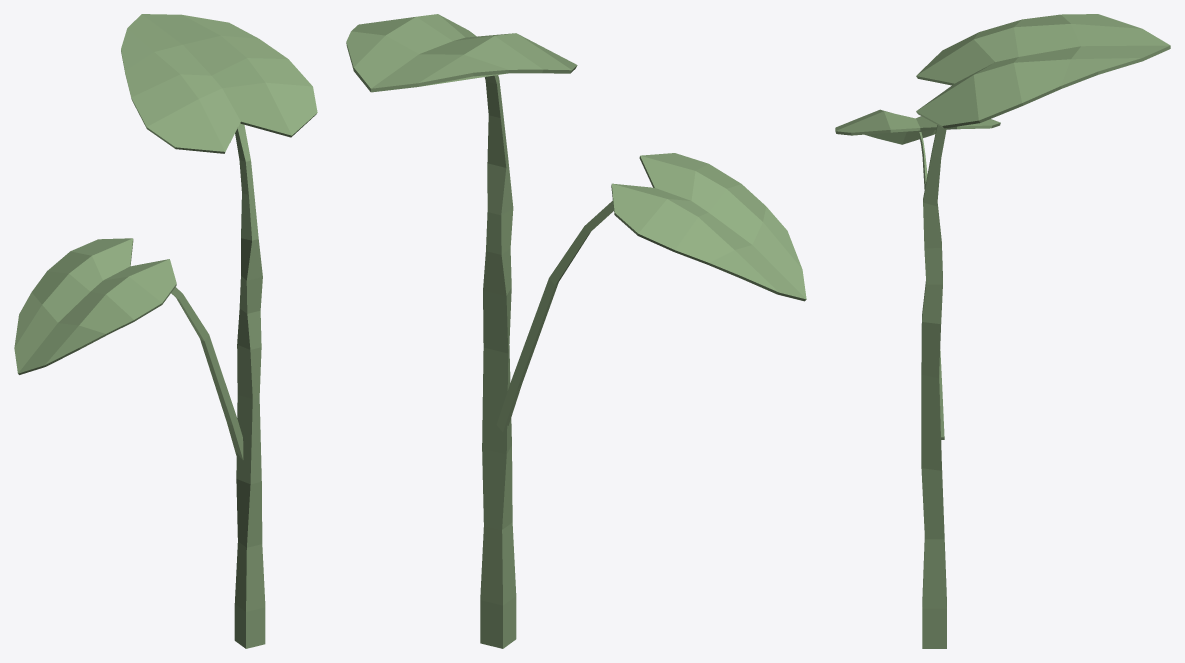
Rendered from palmLeaf.fbx.
The picture shows the model from 3 angles, left to right: view 1: azimuth 30°, elevation 25°; view 2: azimuth 150°, elevation 25°; view 3: azimuth 270°, elevation 25°; orthographic projection. The views are drawn at different scales.
Parts seen in each view (by area): view 1: leaf_and_stem2; view 2: leaf_and_stem2; view 3: leaf_and_stem2.
Boxes of the visible parts, <box> form: leaf_and_stem2: <box>14,14,317,648</box>; leaf_and_stem2: <box>346,14,806,648</box>; leaf_and_stem2: <box>835,14,1170,648</box>.
Bounding box in the file's own units: 27.42 × 43.84 × 22.12.
